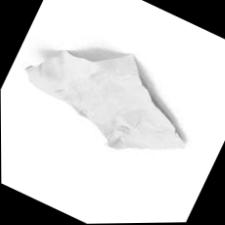paper: (1, 18, 203, 222)
